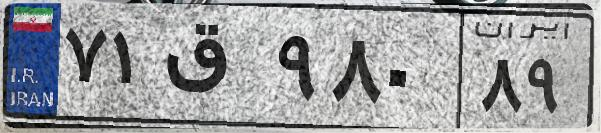0: (385, 28, 445, 110)
1: (110, 28, 158, 98)
7: (57, 26, 110, 100)
8: (330, 28, 385, 110), (475, 38, 525, 113)
9: (270, 28, 330, 110), (525, 38, 570, 115)
ق: (158, 20, 270, 120)
